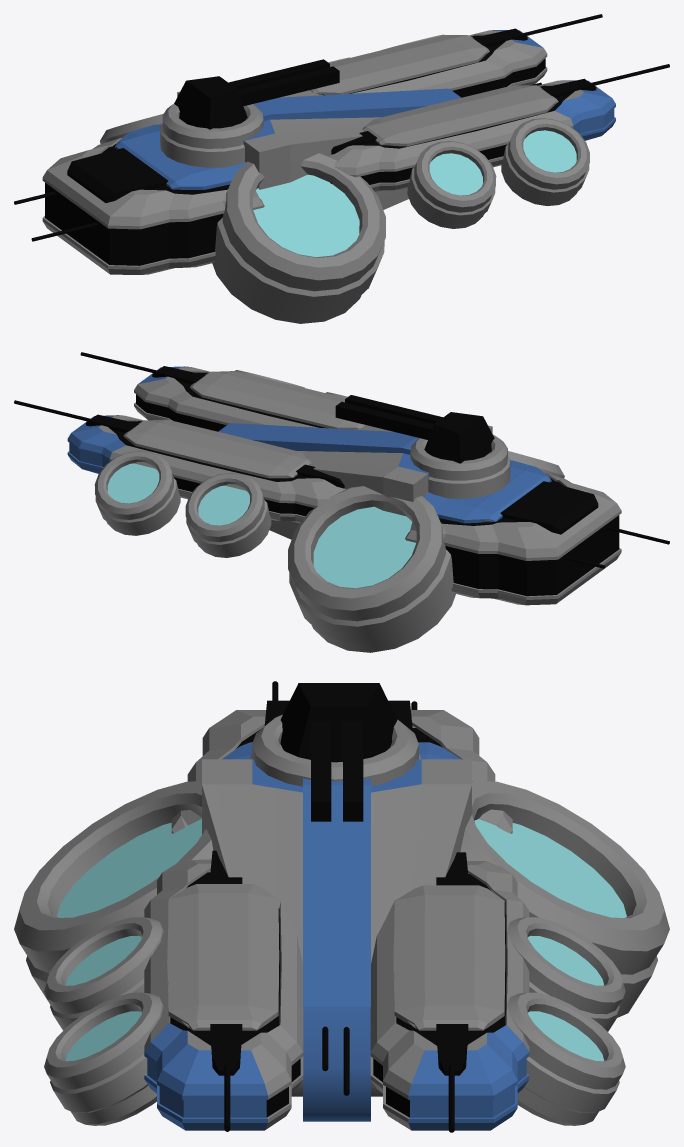
The model's file is HumanShipD.fbx.
The picture shows the model from 3 angles, top to bottom: view 1: azimuth 30°, elevation 25°; view 2: azimuth 150°, elevation 25°; view 3: azimuth 270°, elevation 25°; orthographic projection. The views are drawn at different scales.
Parts seen in each view (by area): view 1: HumanShipD; view 2: HumanShipD; view 3: HumanShipD.
Boxes of the visible parts, <box> form: HumanShipD: <box>14,14,669,323</box>; HumanShipD: <box>14,352,669,652</box>; HumanShipD: <box>14,681,669,1132</box>.
Bounding box in the file's own units: 13.91 × 3.99 × 7.71.
